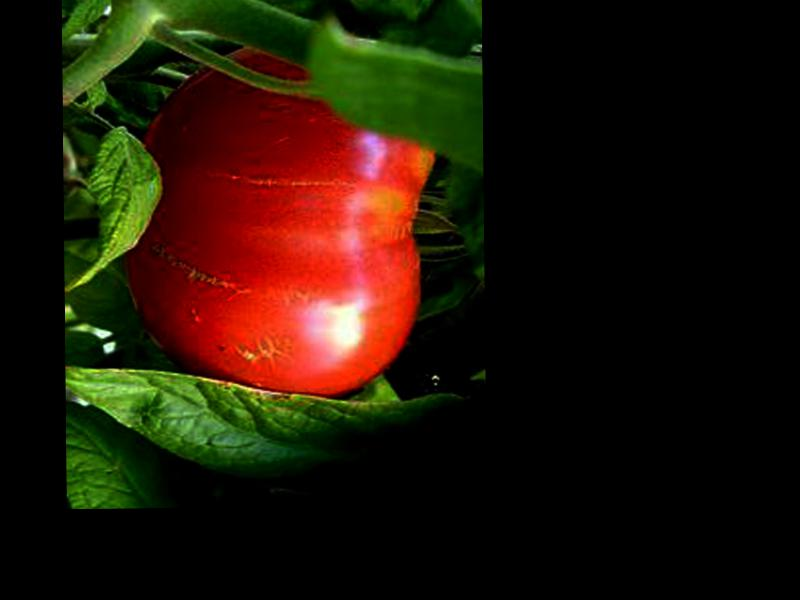Tomato: (125, 46, 439, 402)
